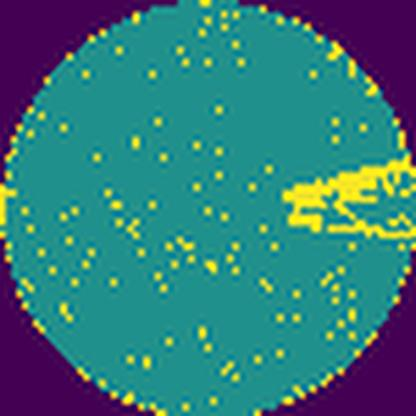Loc: (282, 154, 416, 235)
